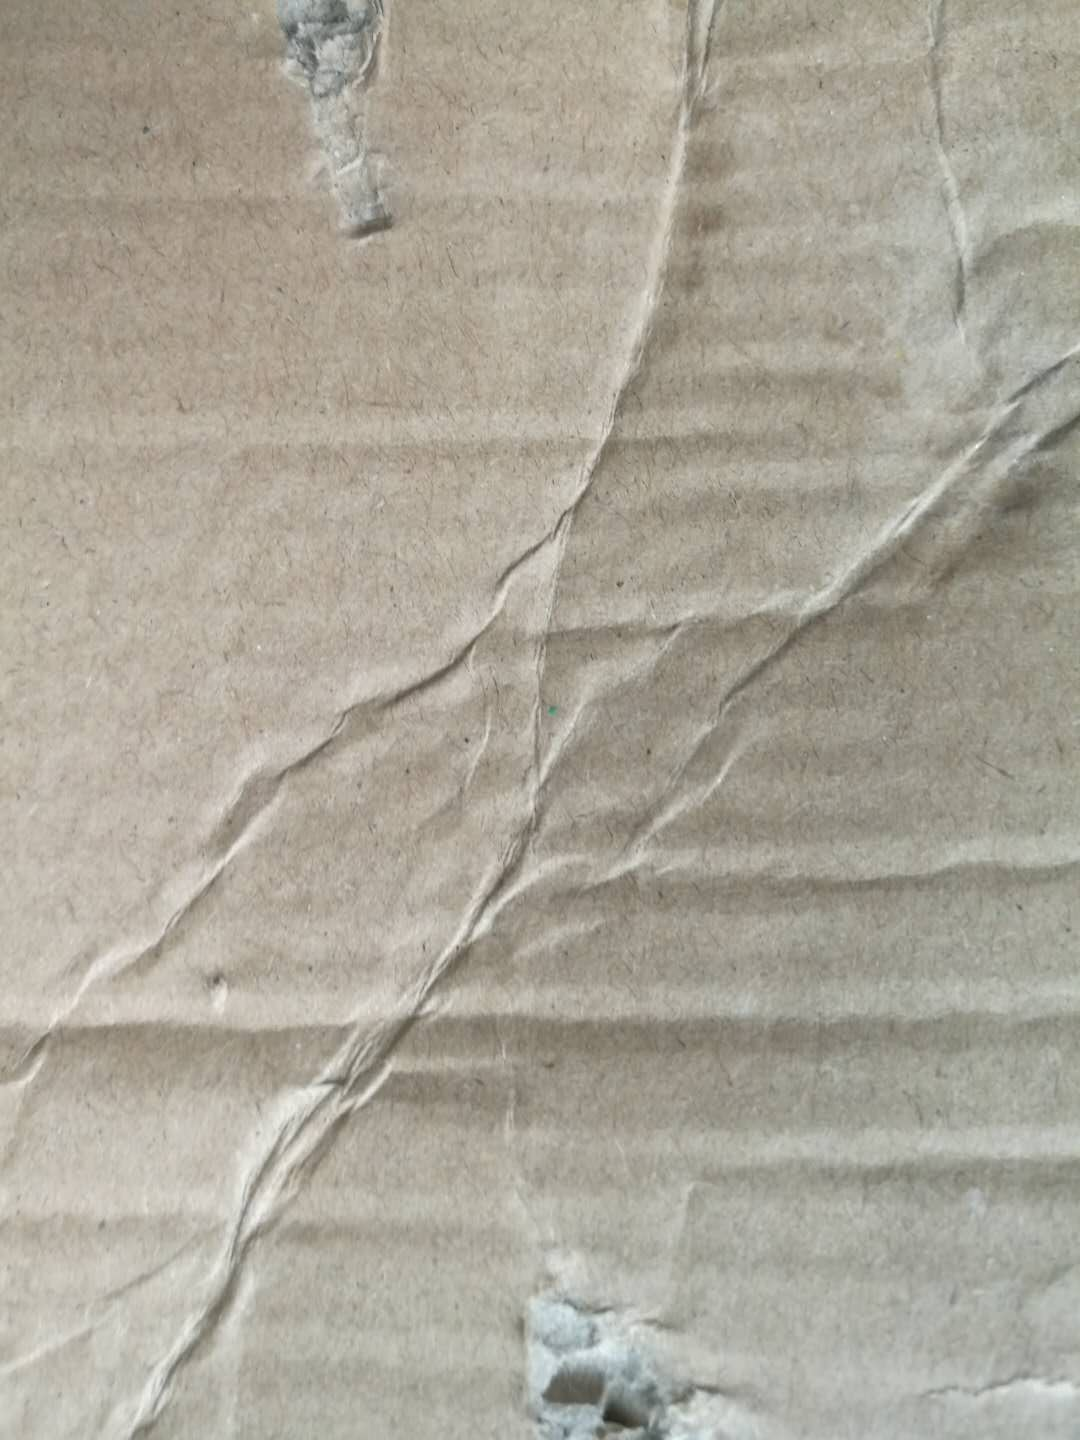defect: (6, 5, 1079, 1440), (472, 1240, 805, 1440), (235, 1, 434, 259)
